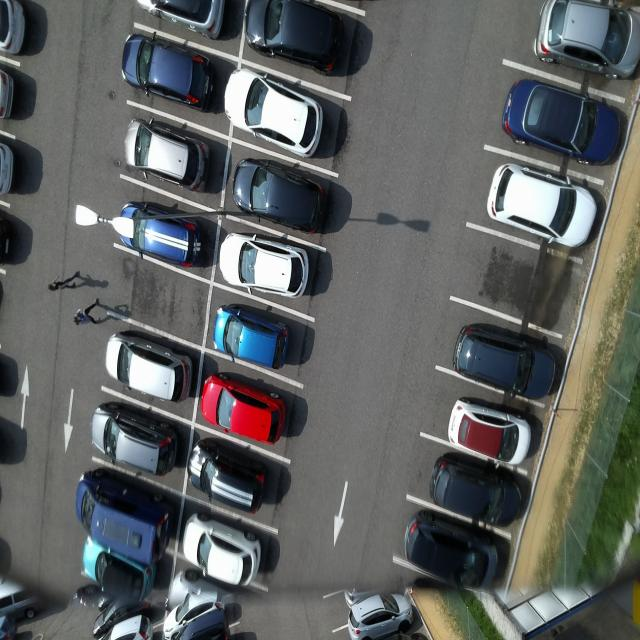car: (502, 78, 625, 170), (487, 163, 600, 249), (225, 65, 326, 160), (74, 471, 172, 562), (454, 321, 560, 404), (533, 1, 640, 81), (404, 508, 503, 592), (244, 1, 349, 77), (120, 28, 217, 109), (88, 398, 181, 478), (234, 157, 328, 236), (120, 115, 212, 193), (429, 458, 524, 530), (103, 332, 195, 406), (202, 370, 285, 447), (445, 398, 533, 469), (117, 203, 207, 272), (184, 513, 265, 588), (219, 235, 312, 298), (77, 535, 160, 603), (190, 440, 267, 513), (215, 305, 291, 374)
free_space: (452, 221, 588, 344), (108, 242, 216, 353)
